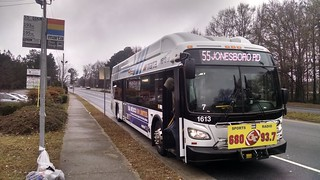bus: (111, 32, 287, 164)
